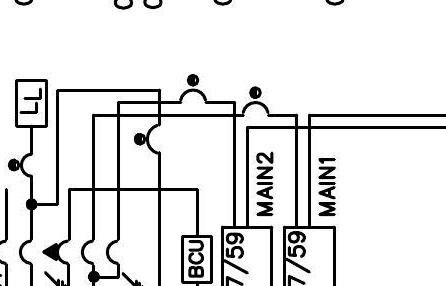BCU: (180, 234, 214, 285)
LL: (15, 79, 48, 128)
